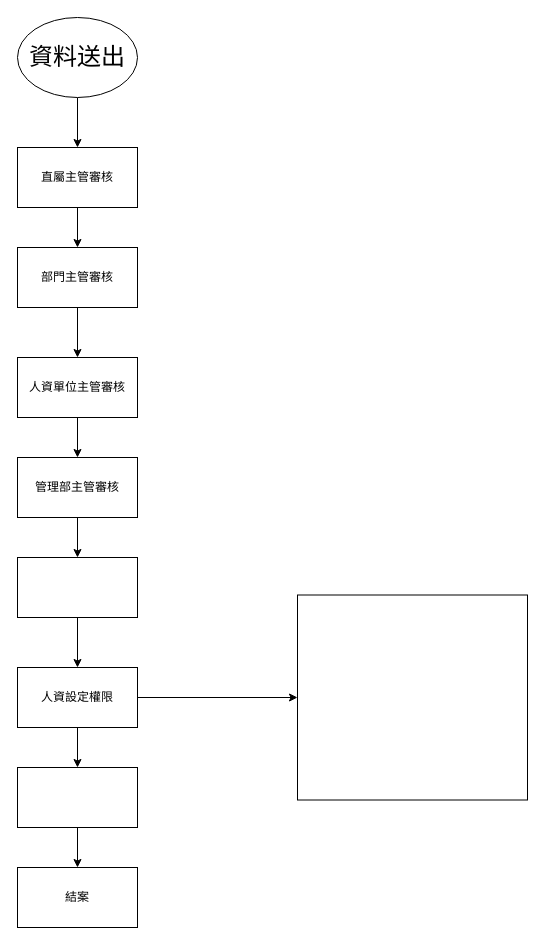
Image size: 545x945. Some labels were removed from this diagram. The shapes that lost their labels are listed below. From the top down, each one's centre as x and y in pixels, then its label:
At (77,587): "總經理室審核".
At (412,697): "1.確認密碼(卡片設定權限) 2.發放卡片".
At (77,797): "申請人確認".
